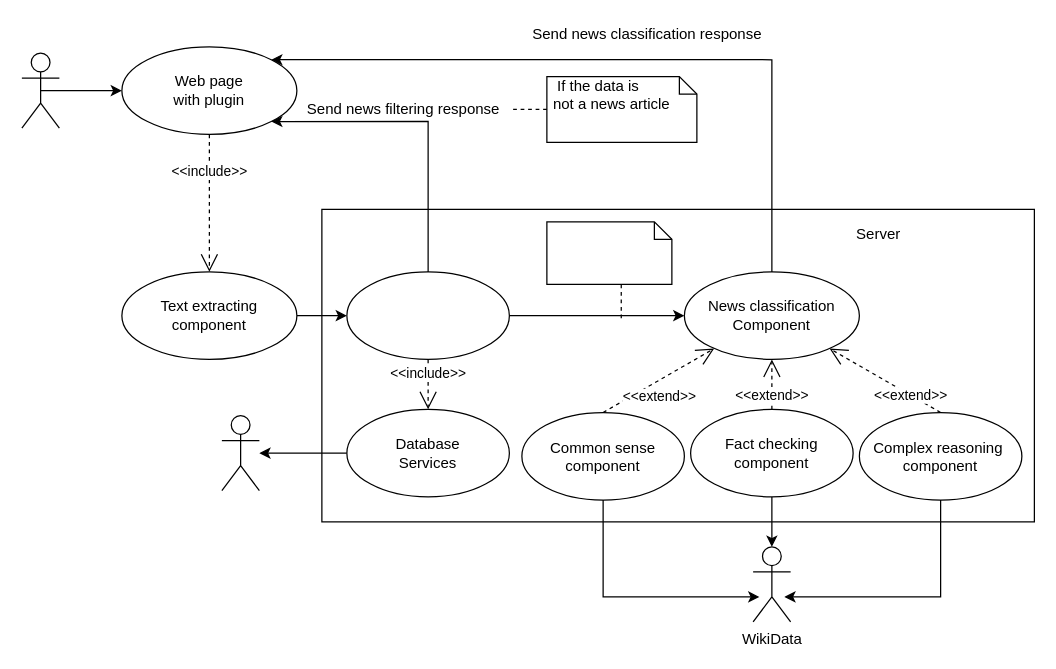
Image size: 1056x669. Some labels were removed from this diagram. Each missing label, with the centre of its shape:
"Database" belongs at [240,452].
"News Filtering Component" belongs at [427,315].
"Precondition : The data is a news article" belongs at [609,252].
"User" belongs at [40,90].
